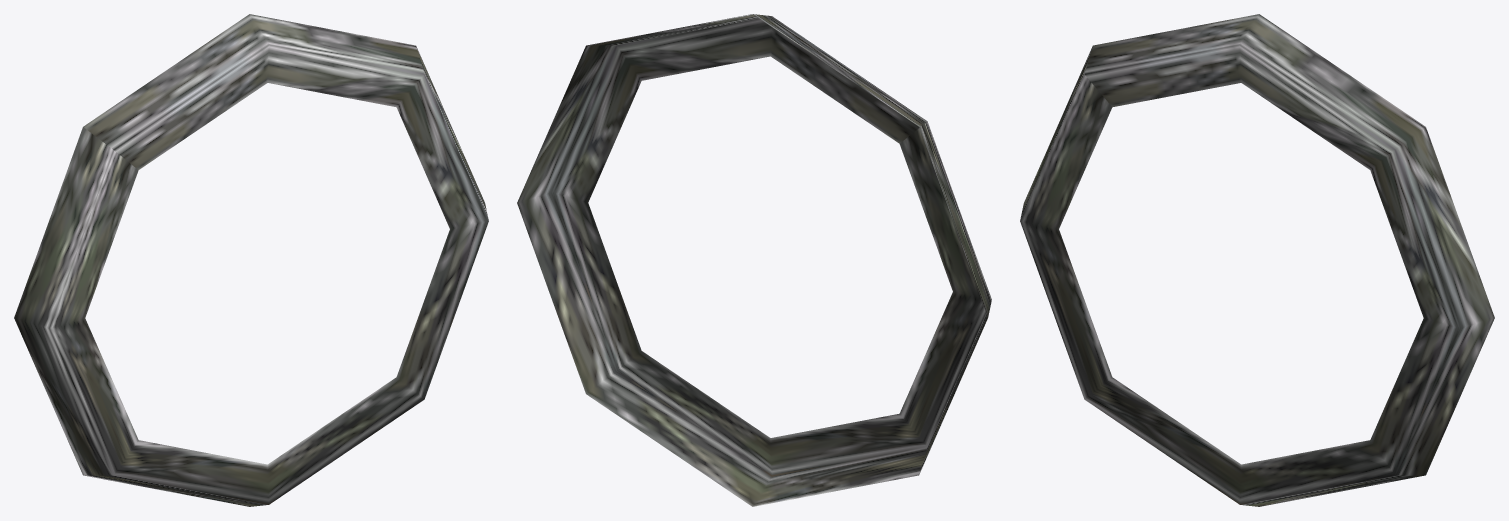
Rendered from earring_s14_m_l1.fbx.
The picture shows the model from 3 angles, left to right: view 1: azimuth 30°, elevation 25°; view 2: azimuth 150°, elevation 25°; view 3: azimuth 330°, elevation 25°; orthographic projection.
Visible parts, largest first — view 1: mesh_node; view 2: mesh_node; view 3: mesh_node.
Boxes of the visible parts, x1,y1,x2,y2 form: mesh_node: [14, 14, 488, 506]; mesh_node: [517, 14, 991, 506]; mesh_node: [1020, 14, 1494, 506].
Bounding box in the file's own units: 0.027 × 0.027 × 0.00194.
1 material, 1 textured.
